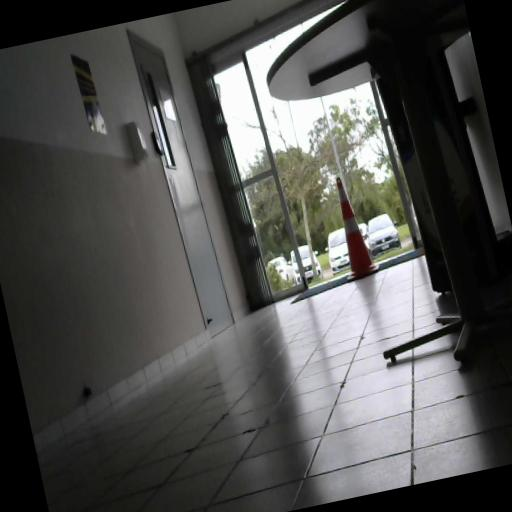cone: (328, 170, 378, 284)
